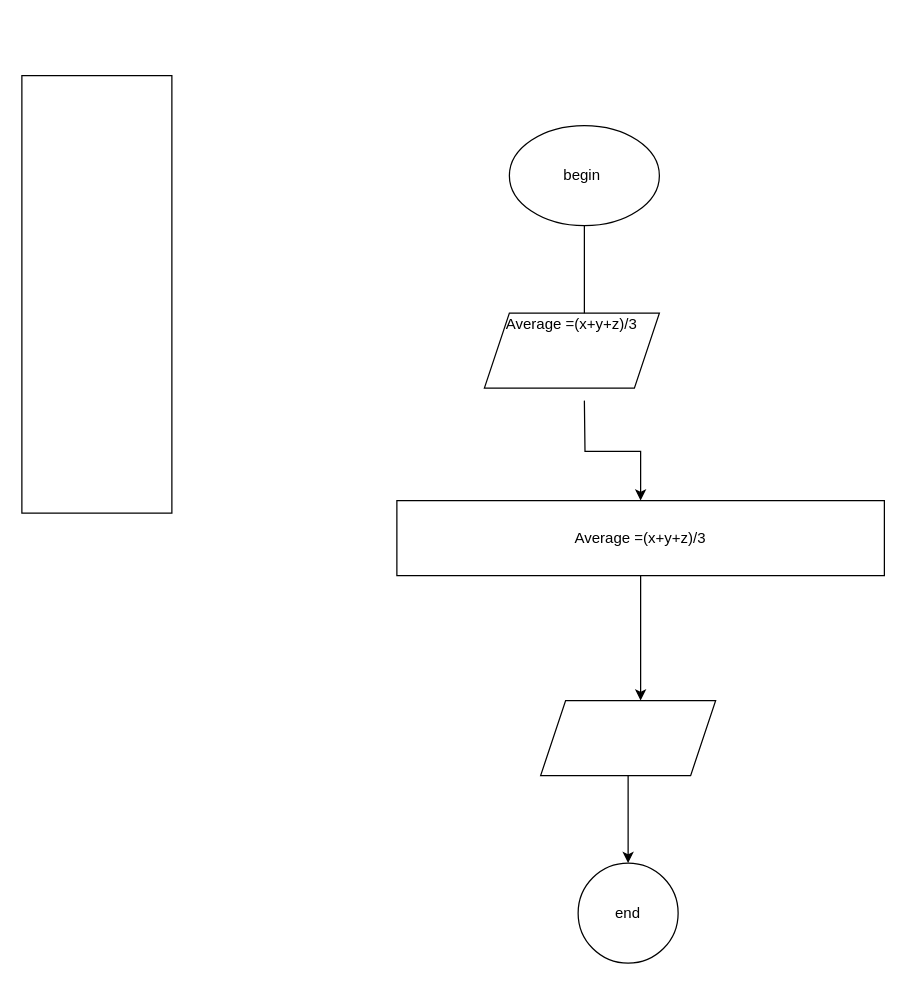
Image size: 906x985. Some labels were removed from this diagram. Here are the shapes that lost their labels. From the top down, the centre of each, then its label:
the point at 96,293: Begin Input x,y,z Average =(x+y+z)/3 Display “average” End
the point at 627,737: Display “average”
